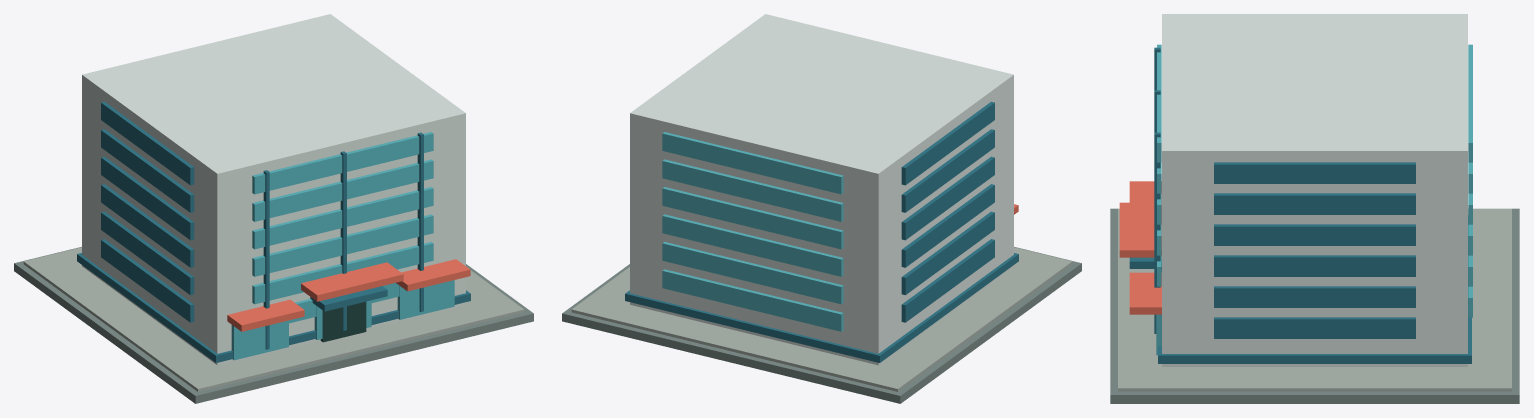
Rendered from office_lv1.glb.
3 renders of one model, left to right at view 1: azimuth 30°, elevation 25°; view 2: azimuth 150°, elevation 25°; view 3: azimuth 270°, elevation 25°, orthographic. The views are drawn at different scales.
Visible parts, largest first — view 1: white, glass, glassDark, concrete, pavement, coral, dark; view 2: white, glass, glassDark, concrete, pavement; view 3: white, glassDark, concrete, pavement, coral, glass.
Boxes of the visible parts, bbox=[...] form: white: bbox=[82, 14, 465, 365]; glass: bbox=[231, 132, 454, 360]; glassDark: bbox=[77, 101, 470, 362]; concrete: bbox=[23, 247, 524, 391]; pavement: bbox=[14, 246, 533, 403]; coral: bbox=[227, 259, 470, 331]; dark: bbox=[320, 301, 366, 342]; white: bbox=[630, 14, 1013, 365]; glass: bbox=[662, 132, 843, 331]; glassDark: bbox=[625, 101, 1018, 362]; concrete: bbox=[571, 247, 1072, 391]; pavement: bbox=[562, 246, 1081, 403]; white: bbox=[1162, 14, 1467, 366]; glassDark: bbox=[1129, 47, 1471, 363]; concrete: bbox=[1118, 208, 1511, 391]; pavement: bbox=[1110, 208, 1519, 403]; coral: bbox=[1119, 181, 1161, 314]; glass: bbox=[1156, 44, 1472, 355].
Bounding box in the file's own units: 9.8 × 5.6 × 9.1.
